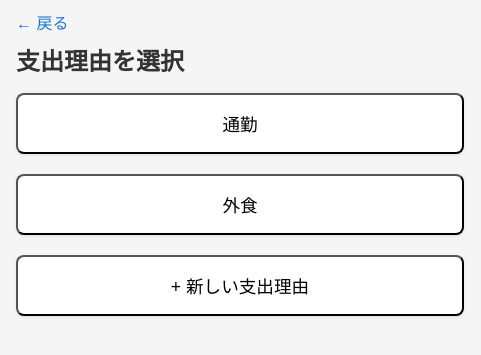
it: TagSelect › 新しい支出理由ボタンで入力欄を表示する
This screenshot has width=481, height=355.
Click the button "+ 新しい支出理由" at (240, 286), box x1=16 y1=255 x2=464 y2=316
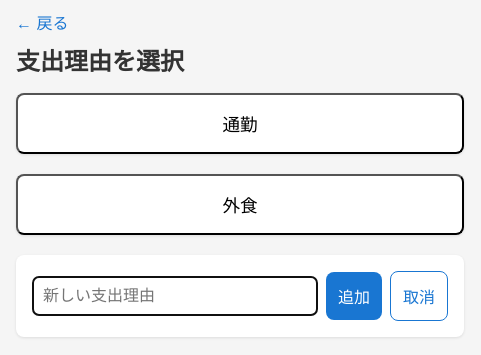
Now the field with placeholder "新しい支出理由" is shown, box x1=32 y1=276 x2=318 y2=316
Now the button "追加" is shown, box x1=326 y1=272 x2=382 y2=320
Now the button "取消" is shown, box x1=390 y1=271 x2=448 y2=321
